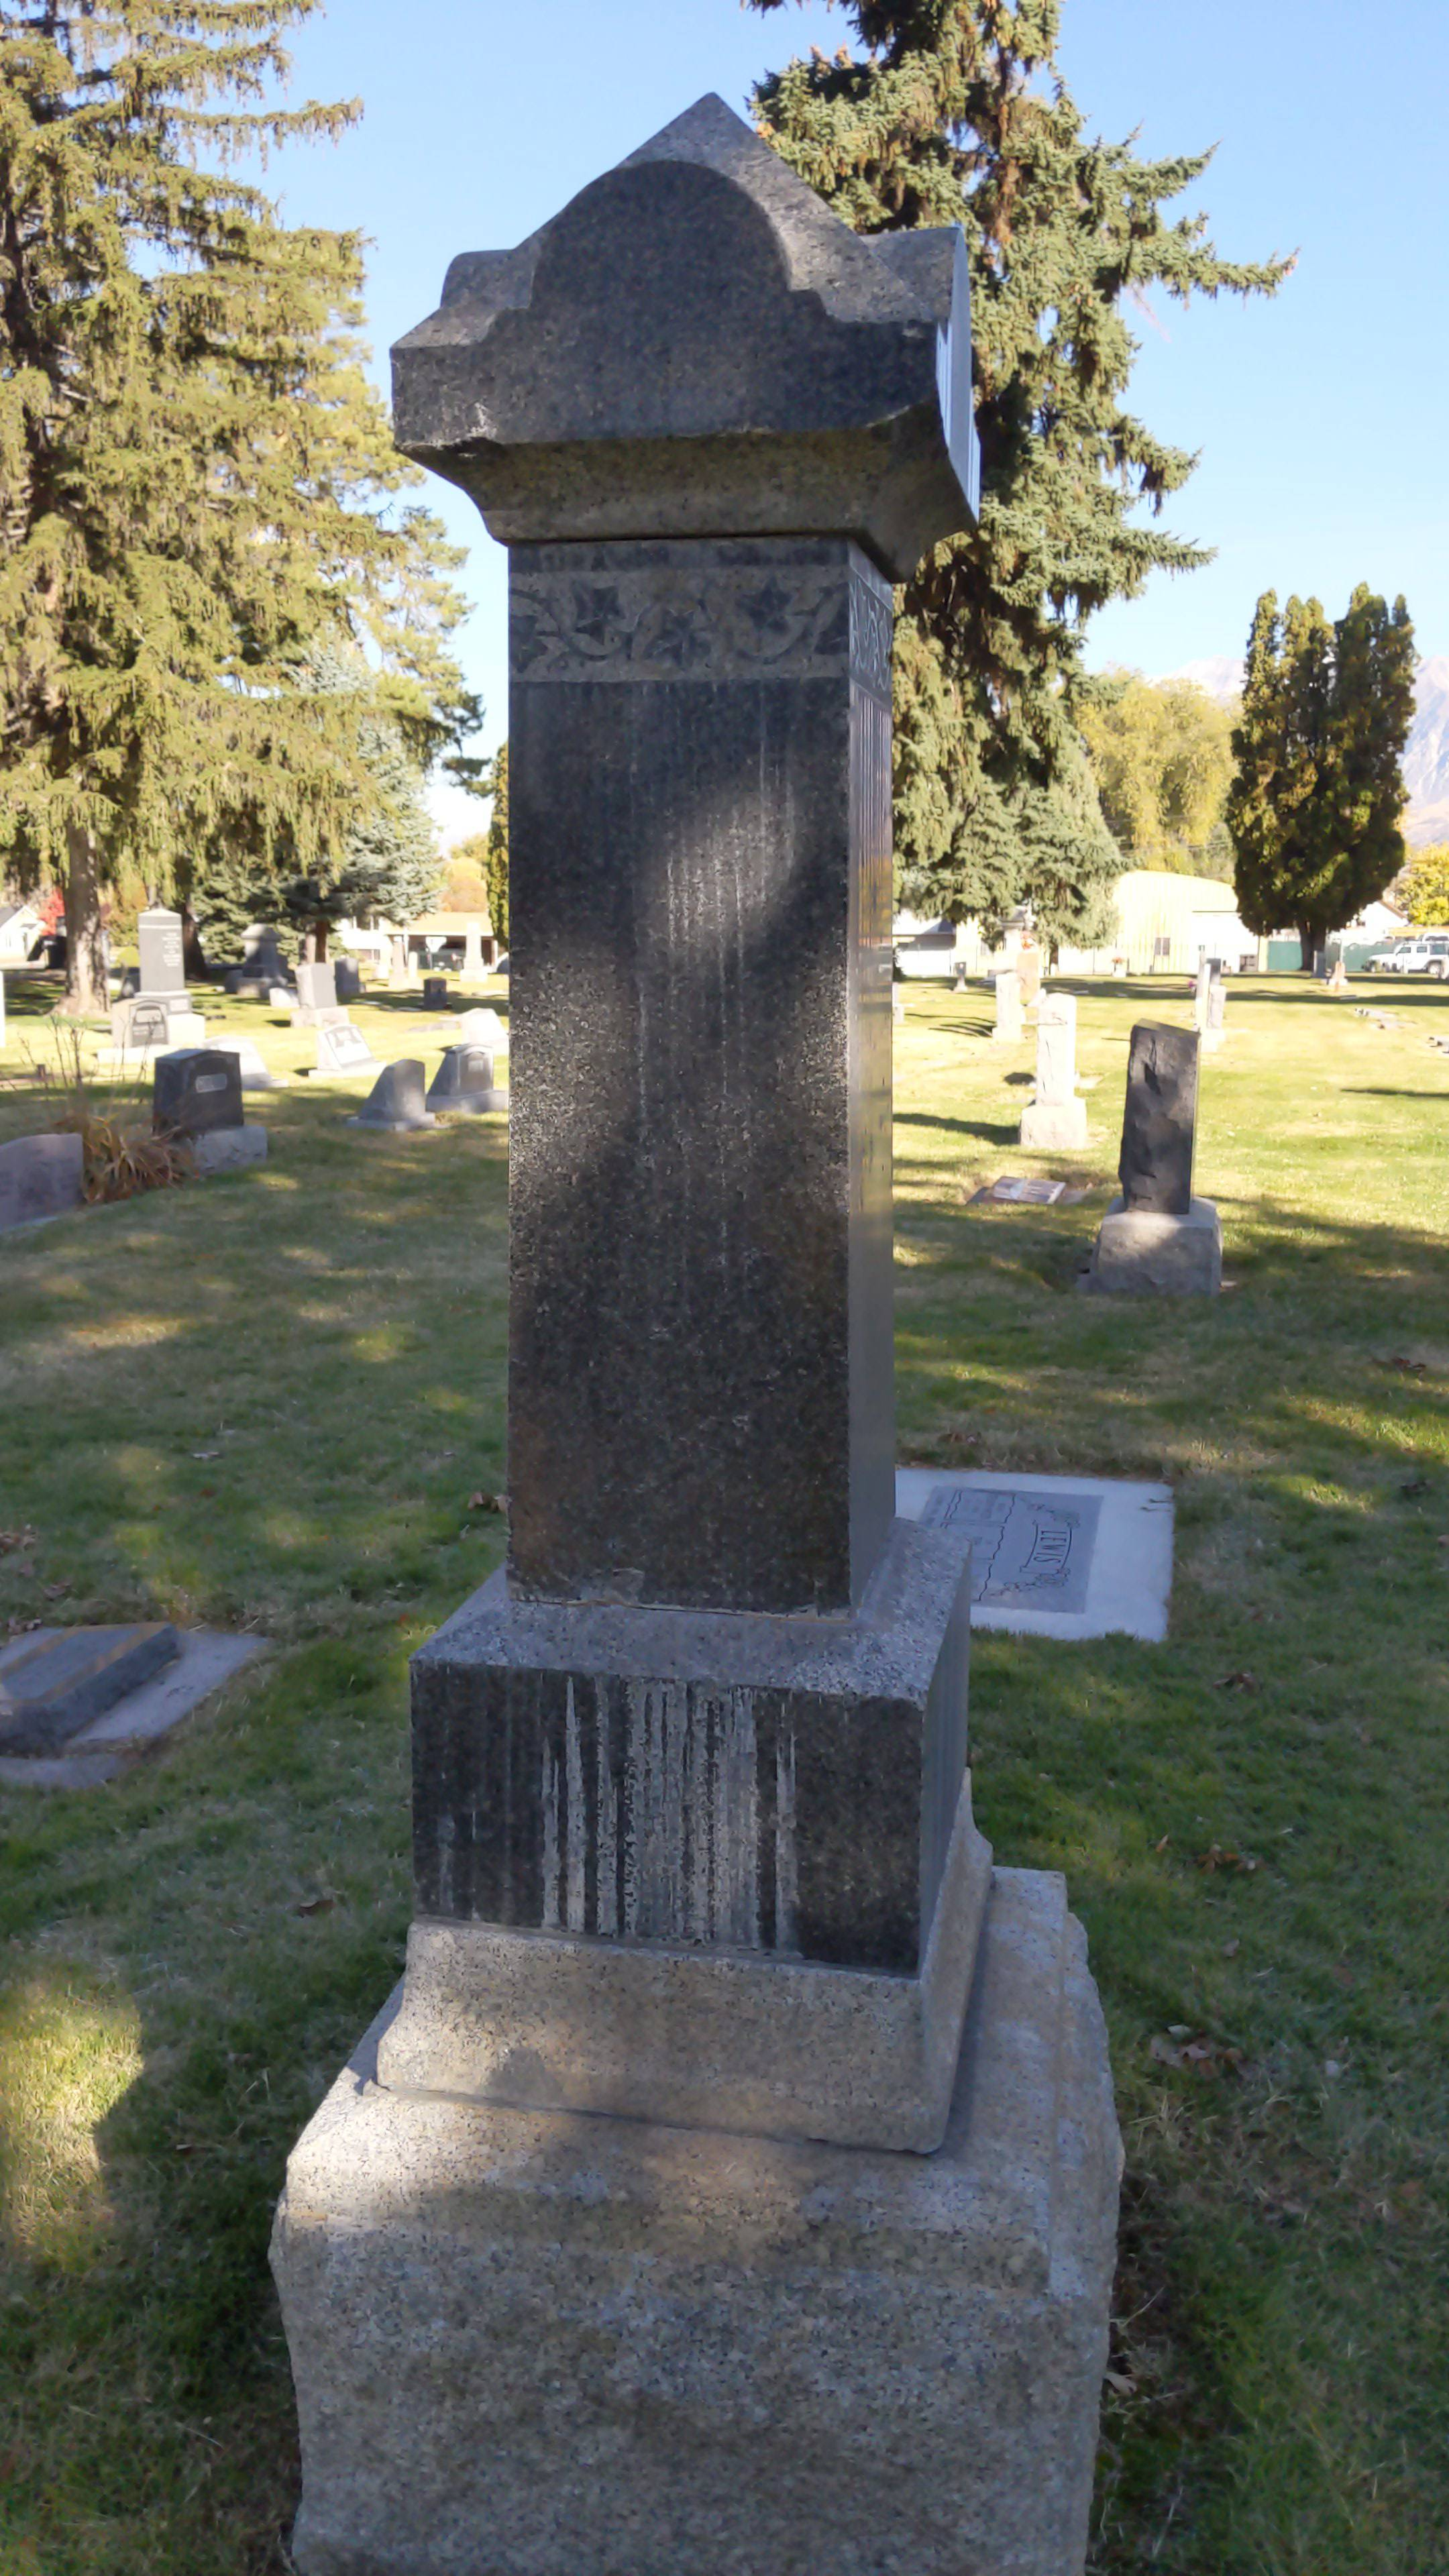obelisk: (391, 99, 996, 2143)
